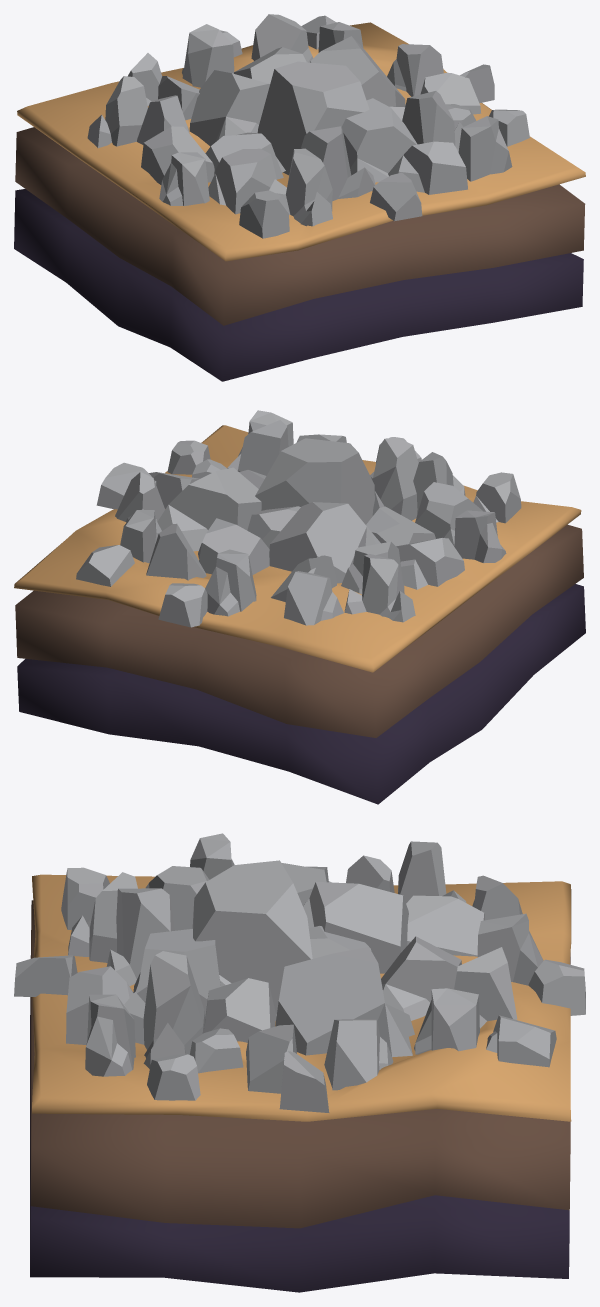
The model's file is mine_Stone.glb.
3 renders of one model, top to bottom at view 1: azimuth 30°, elevation 25°; view 2: azimuth 150°, elevation 25°; view 3: azimuth 270°, elevation 25°, orthographic. The views are drawn at different scales.
Visible parts, largest first — view 1: Plane.005, 立方体.036; view 2: Plane.005, 立方体.036; view 3: Plane.005, 立方体.036.
Boxes of the visible parts, box(x1,y1,x2,y2) form: Plane.005: box(14, 22, 585, 381); 立方体.036: box(87, 14, 529, 238); Plane.005: box(14, 425, 585, 804); 立方体.036: box(76, 410, 521, 627); Plane.005: box(30, 874, 571, 1292); 立方体.036: box(14, 833, 585, 1112).
Bounding box in the file's own units: 41.53 × 24.43 × 42.4.
2 materials, 1 textured.
